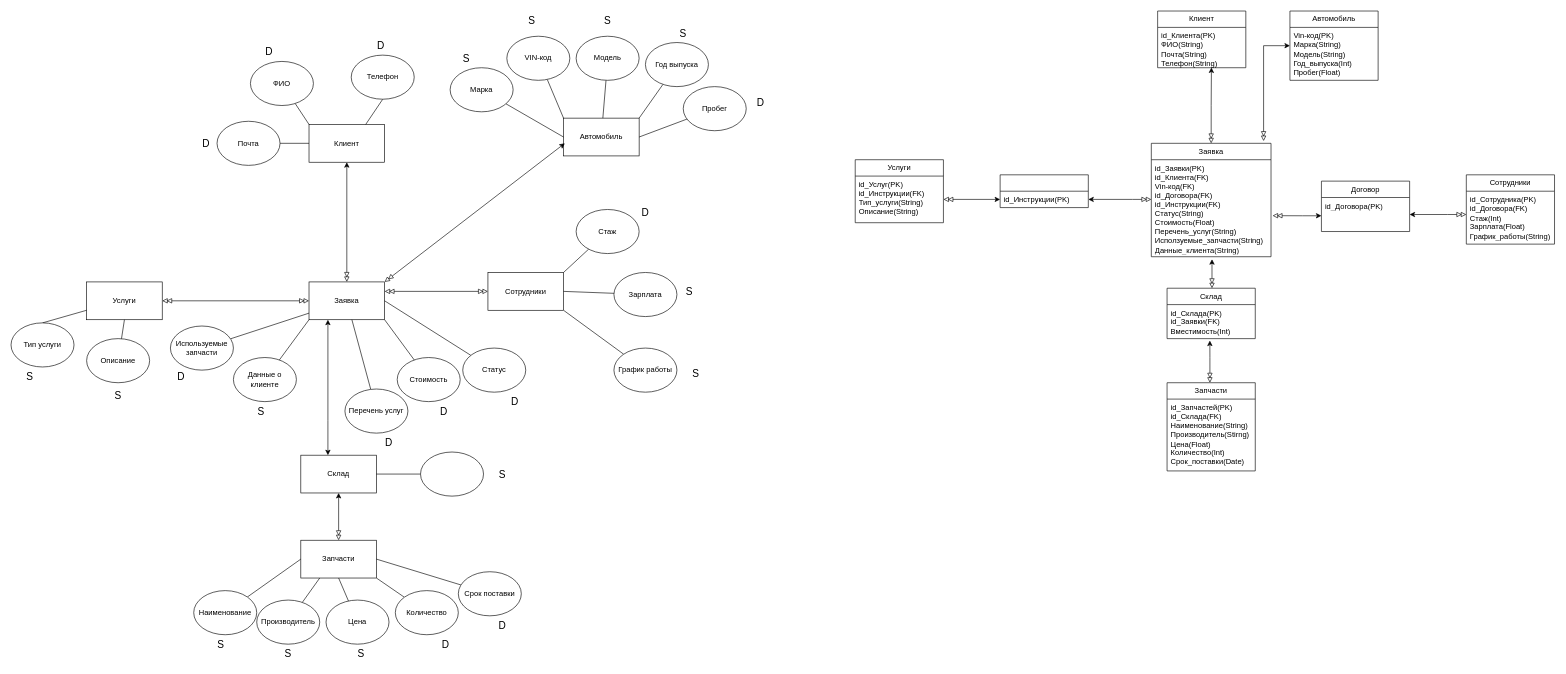
Some shapes in this 1566 by 674 pixel diagram are drawn without their labels. The shapes that lost their labels are listed below. From the top down, each one's box as (x1, y1, x2, y2) in pixels, then its label:
(999, 174, 1088, 208): Инструкция
(420, 451, 484, 496): Вместимость
